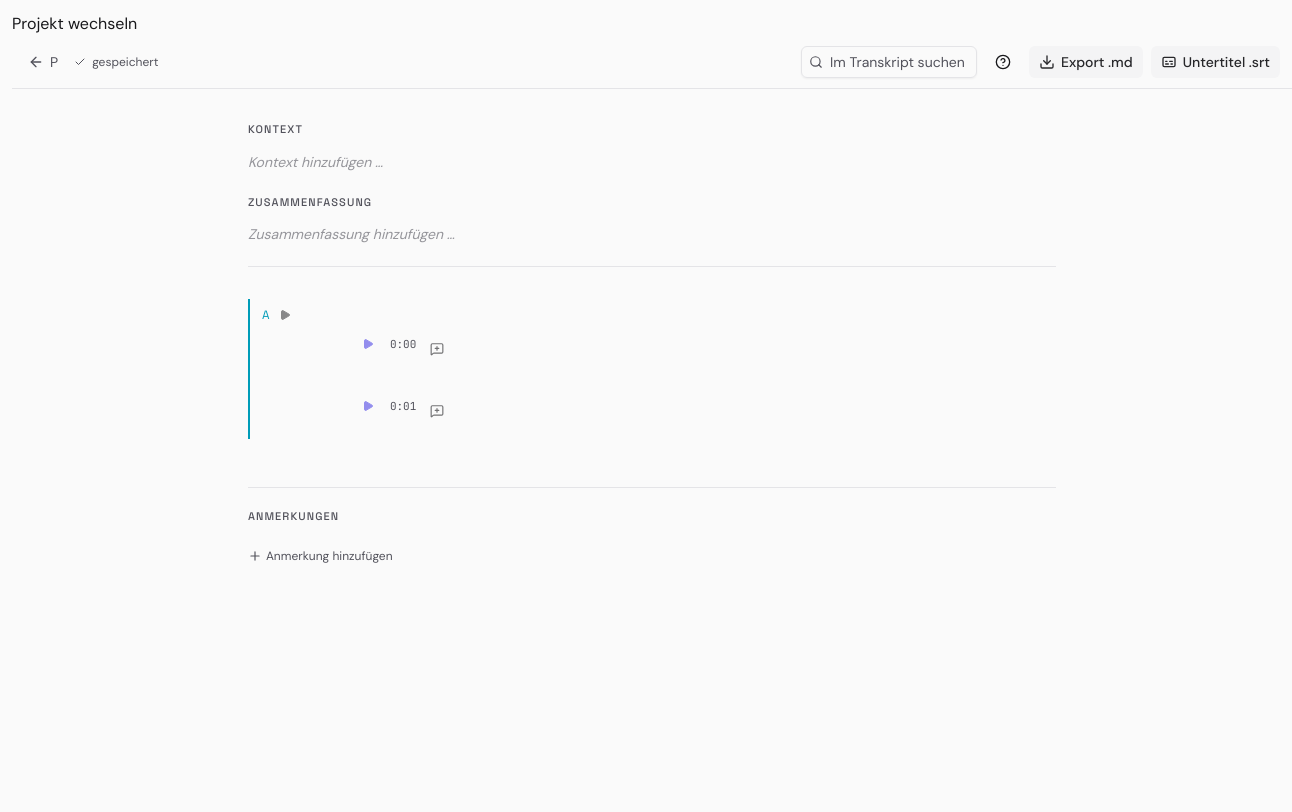
Scenario: EditorView Suche › Tippen graut Nicht-Treffer aus, aktiver Treffer mit Ring, Zähler "1 / 1"
Type "aras" into the field with placeholder "Im Transkript suchen …" at [889, 62], box [801,46,977,78]
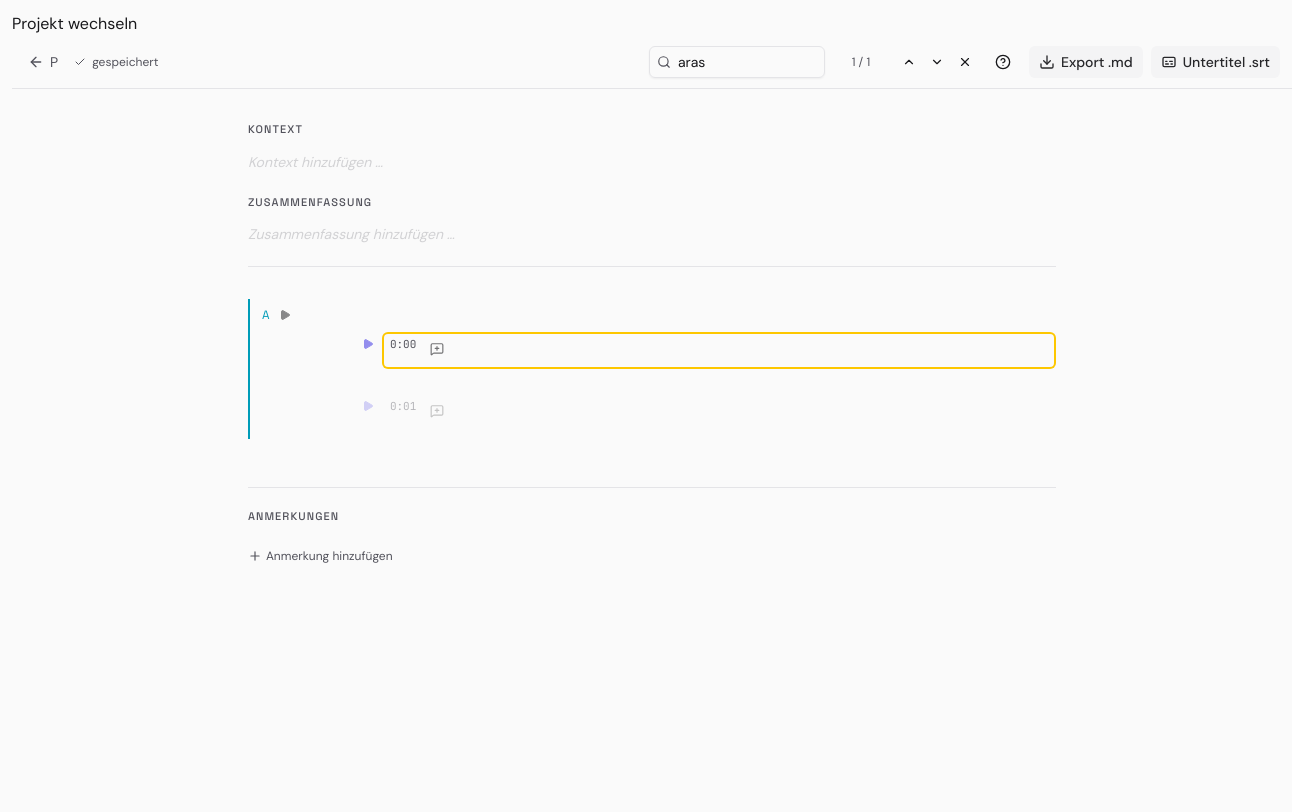
Result: the text "1 / 1" is shown at [852,54,870,70]
